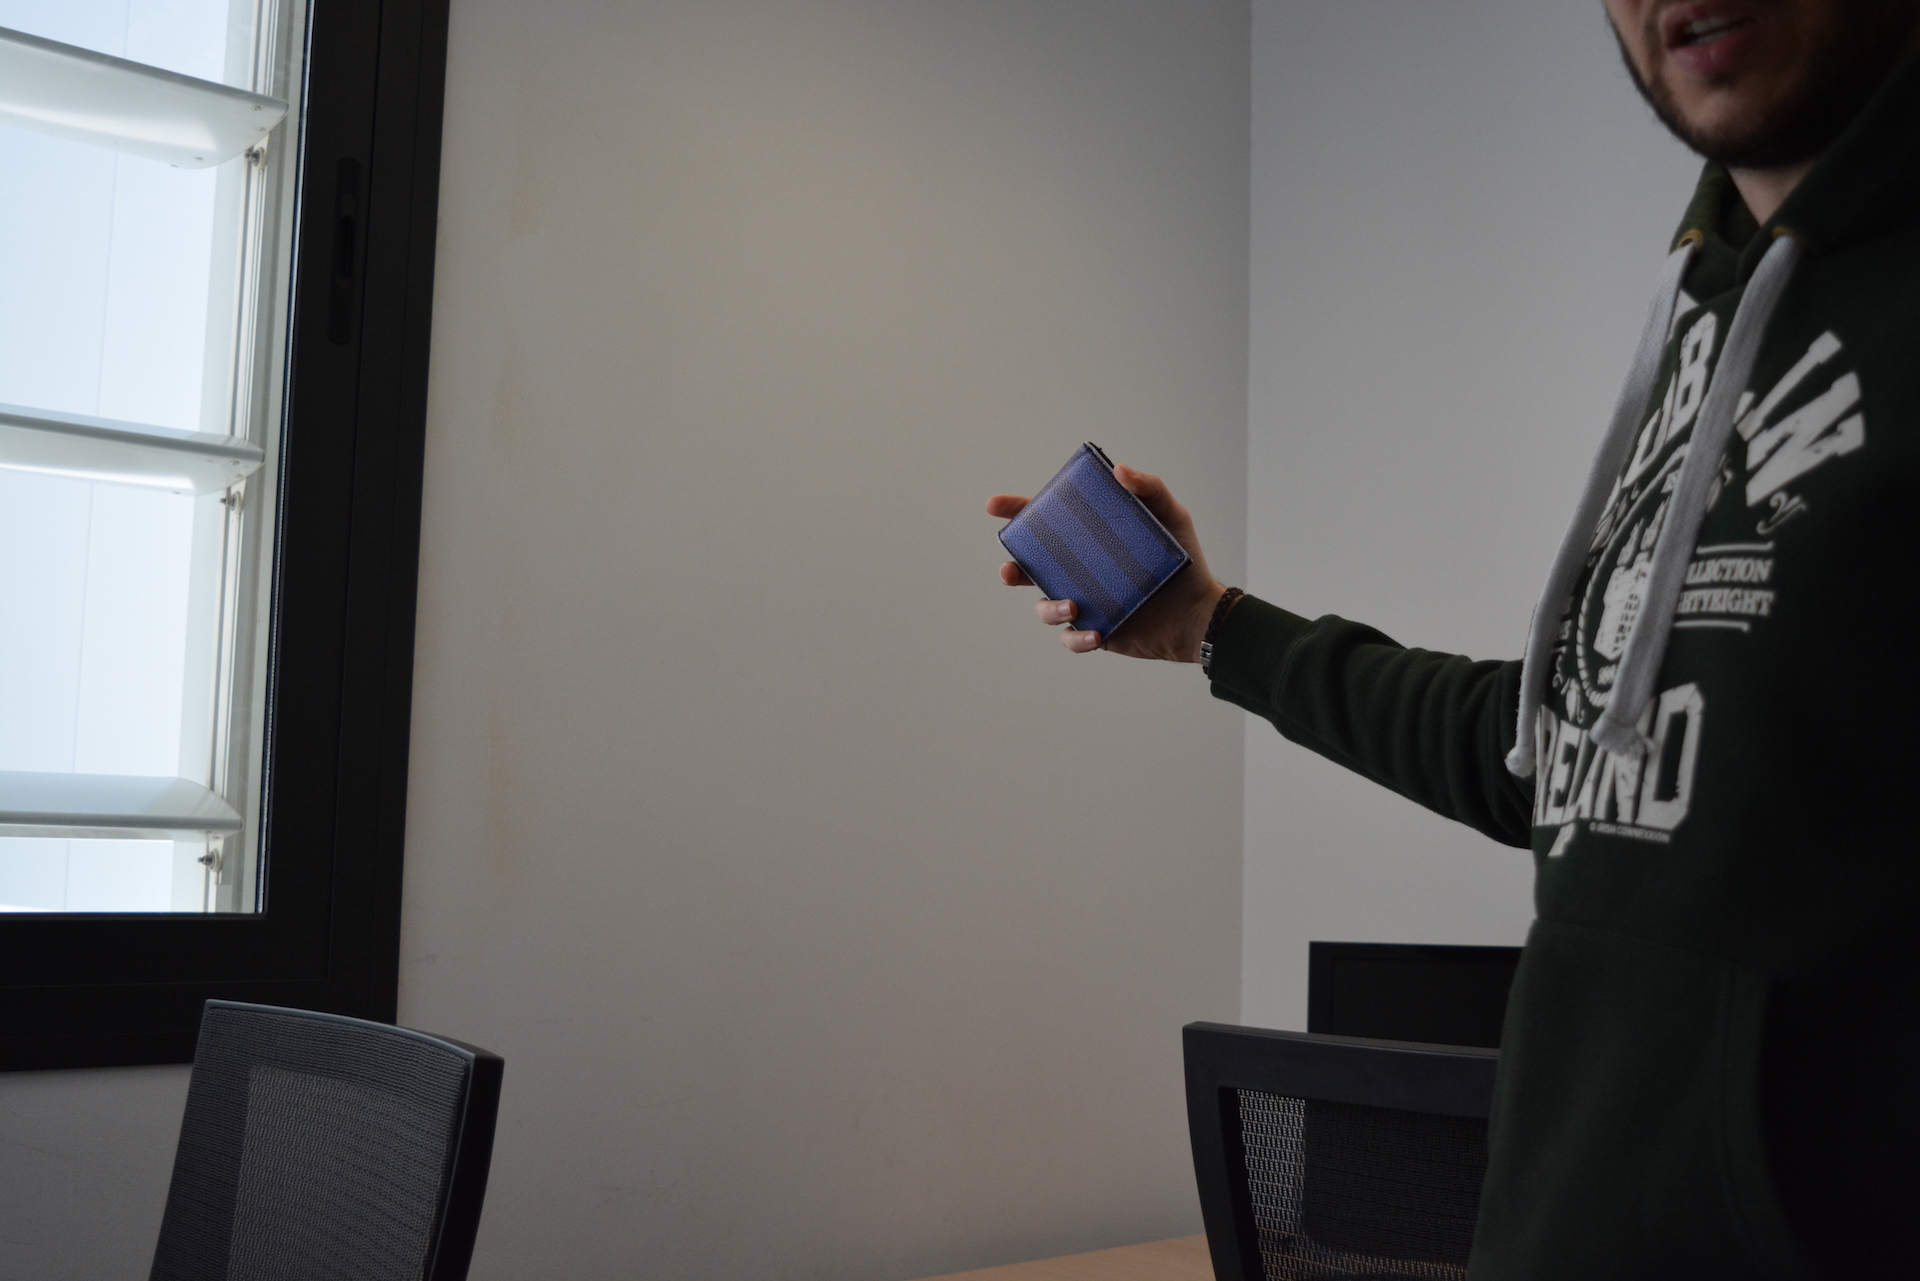monedero: (996, 439, 1195, 651)
